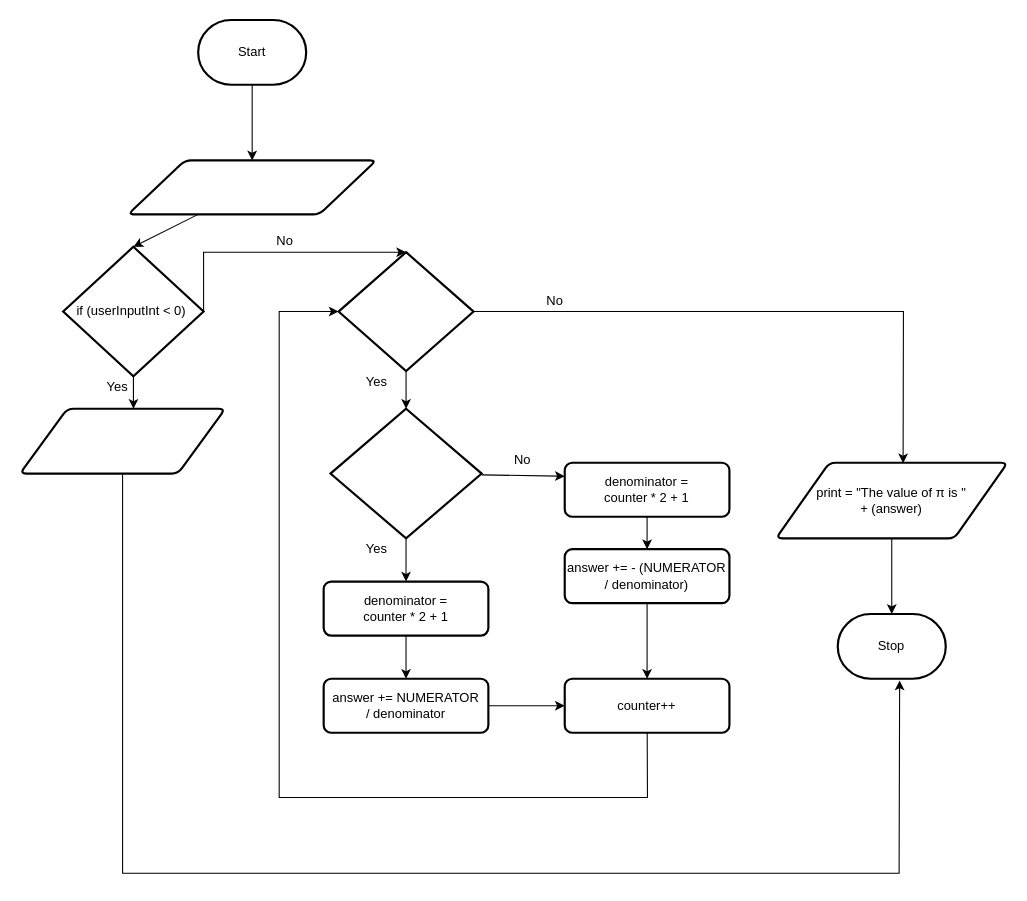
Some shapes in this 1027 by 901 pixel diagram are drawn without their labels. The shapes that lost their labels are listed below. From the top down, each one's centre as x and y in pixels, then its label:
(x=251, y=187): Input a positive whole number
(x=405, y=311): while (counter < userInputInt)
(x=122, y=440): print = "Please input a positive whole number!"
(x=405, y=473): if (counter % 2 == 0)
